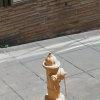Hydrant: (32, 39, 79, 100)
